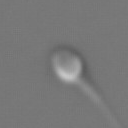normal: (76, 77, 118, 128)
